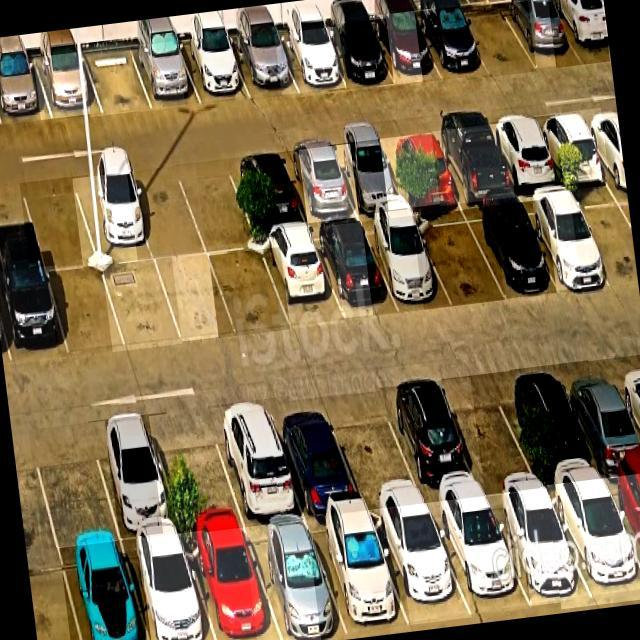empty: (442, 373, 540, 494), (325, 391, 424, 506), (149, 413, 244, 532), (29, 422, 119, 547), (413, 211, 505, 306), (176, 158, 258, 253), (127, 167, 206, 259), (102, 260, 182, 349), (20, 178, 98, 269), (156, 255, 237, 341), (209, 249, 290, 334), (48, 267, 125, 356), (570, 186, 637, 287), (458, 4, 536, 76), (83, 46, 153, 113)
occupied: (307, 511, 411, 639), (380, 381, 484, 502), (243, 521, 347, 640), (428, 496, 531, 615), (487, 489, 592, 605), (369, 506, 471, 623), (546, 478, 640, 604), (209, 400, 304, 524), (182, 527, 282, 640), (89, 416, 181, 538), (267, 398, 362, 515), (510, 365, 602, 485), (123, 533, 215, 640), (518, 191, 612, 290), (560, 361, 640, 477), (464, 203, 556, 298), (60, 541, 148, 640), (311, 221, 398, 318), (259, 228, 343, 328), (362, 216, 451, 309), (72, 172, 153, 265), (0, 268, 68, 364), (431, 125, 514, 203), (227, 152, 307, 231), (281, 146, 358, 222), (328, 140, 407, 214), (380, 133, 460, 205), (487, 117, 563, 191), (501, 0, 583, 68), (534, 112, 609, 184), (369, 11, 441, 84), (415, 9, 489, 79), (321, 20, 394, 88), (131, 42, 201, 109), (178, 39, 250, 104), (274, 29, 346, 92), (34, 52, 102, 118), (230, 34, 297, 97), (548, 0, 610, 63), (0, 57, 51, 124), (604, 471, 640, 563)
